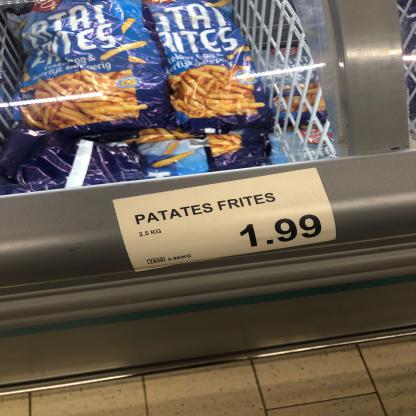prtg: (113, 168, 342, 274)
